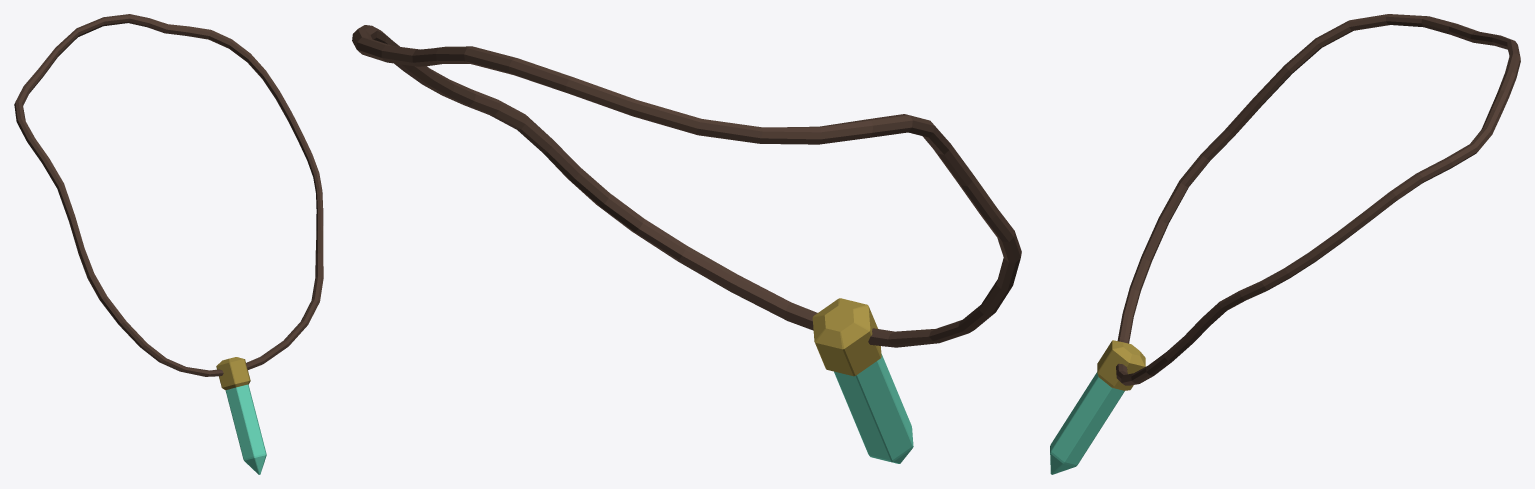
File: necklace-quaternius_Jvhs8DCNDZ.glb
3 renders of one model, left to right at view 1: azimuth 30°, elevation 25°; view 2: azimuth 150°, elevation 25°; view 3: azimuth 270°, elevation 25°, orthographic. The views are drawn at different scales.
Visible parts, largest first — view 1: Necklace3; view 2: Necklace3; view 3: Necklace3.
Part boxes in pixels (x1,y1,x2,y2): Necklace3: (14, 14, 323, 474); Necklace3: (352, 25, 1021, 463); Necklace3: (1050, 14, 1520, 474).
Size of the model in its own units: 0.8537 by 1.01 by 0.9993.
